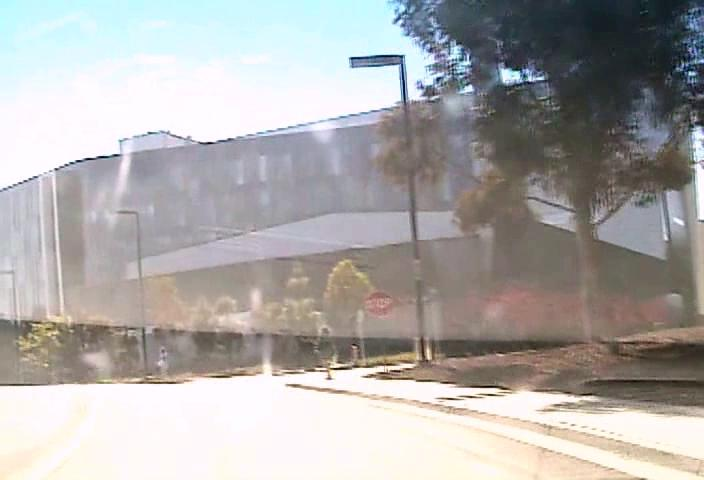stop: (364, 290, 393, 318)
